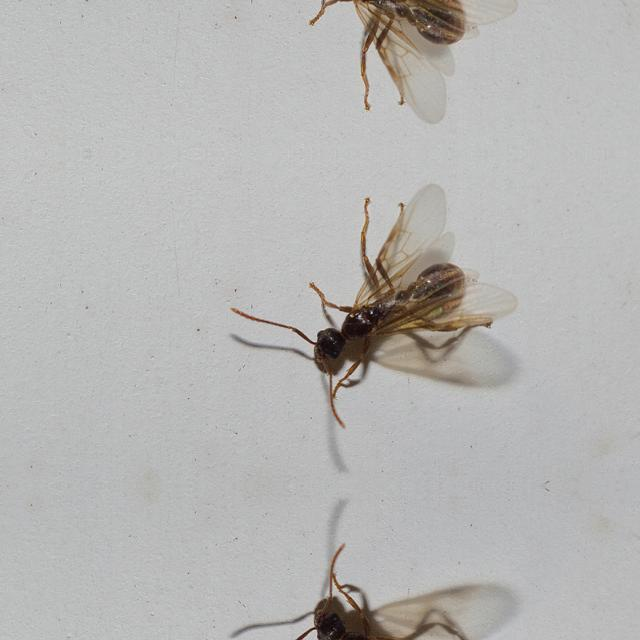Myrmica: (298, 243, 476, 357), (298, 0, 476, 64), (298, 614, 476, 640)
